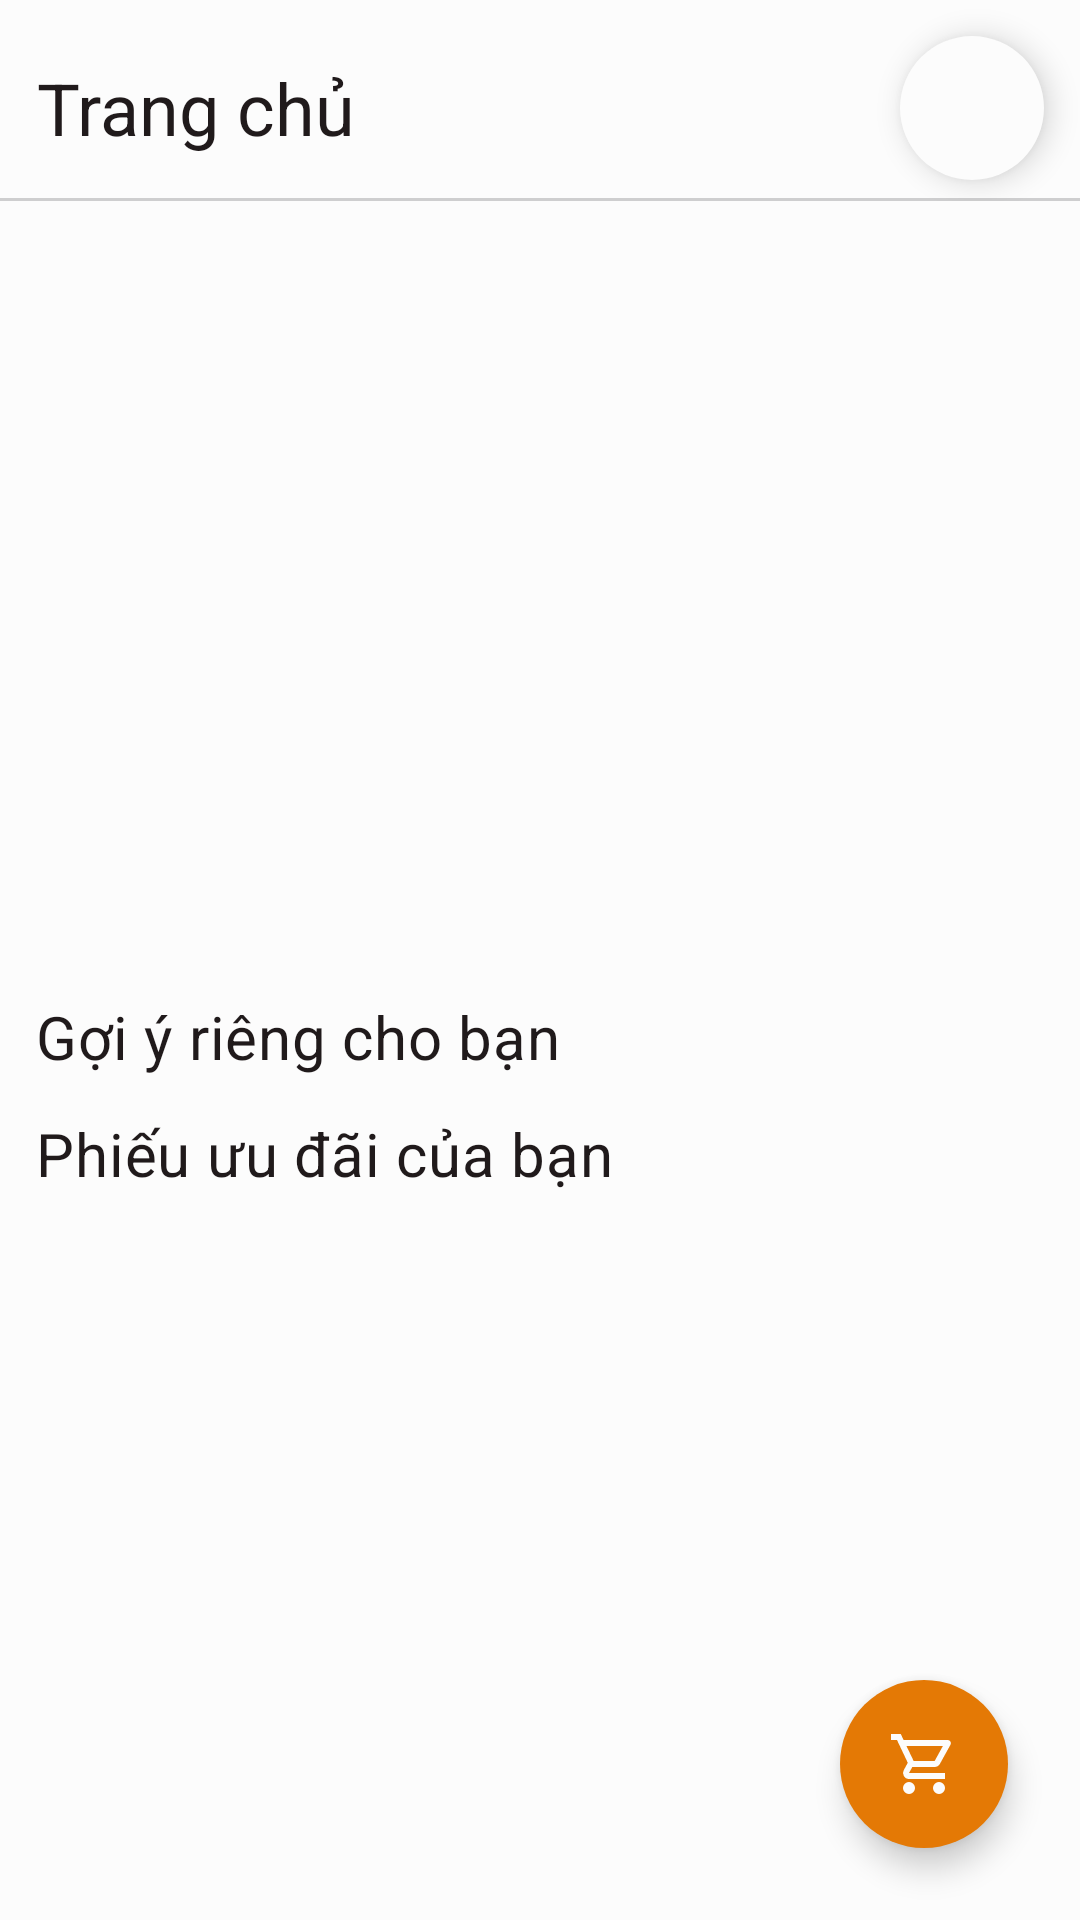

Icon bounding boxes for this 1080w x 1920h phone screenshot, format (x1, y1, x2, y2):
cart: (840, 1680, 1008, 1848)
